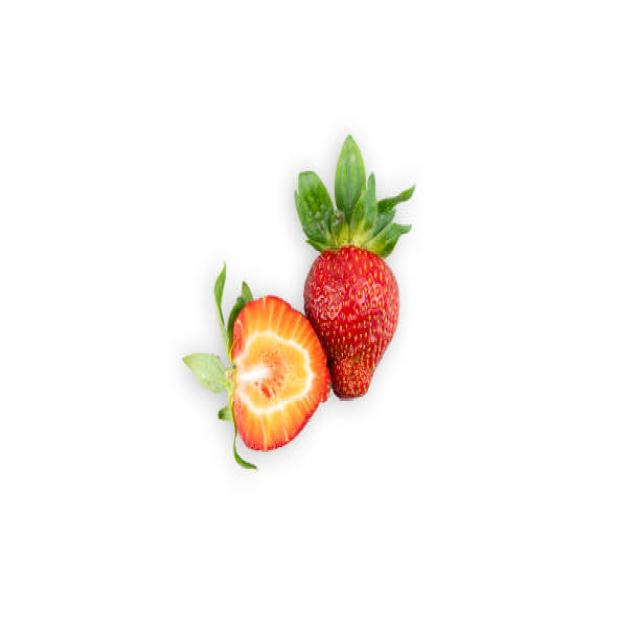Healthy Fruit: (230, 293, 330, 451), (305, 246, 400, 402)
